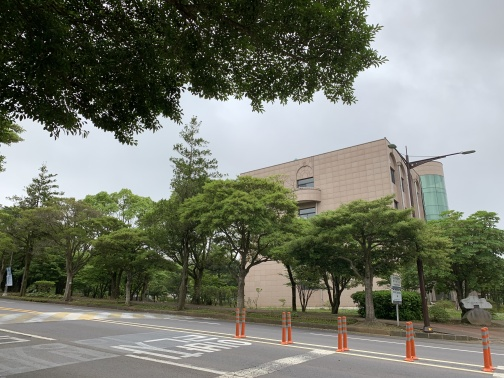Natural Science2: (238, 139, 463, 229)
